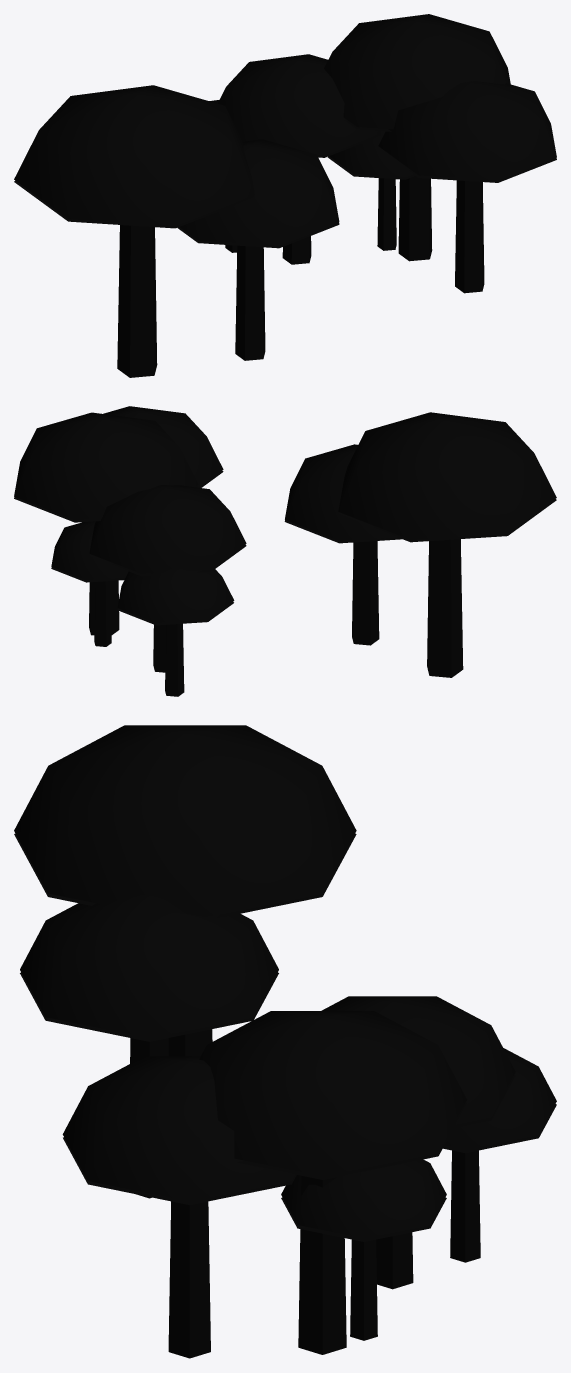
The model's file is SM_mushrooms_brown.fbx.
3 renders of one model, top to bottom at view 1: azimuth 30°, elevation 25°; view 2: azimuth 150°, elevation 25°; view 3: azimuth 270°, elevation 25°, orthographic. The views are drawn at different scales.
Visible parts, largest first — view 1: mushrooms_brown; view 2: mushrooms_brown; view 3: mushrooms_brown.
Part boxes in pixels (bbox=[...]): mushrooms_brown: bbox=[14, 14, 556, 377]; mushrooms_brown: bbox=[14, 406, 556, 696]; mushrooms_brown: bbox=[14, 725, 556, 1358].
Bounding box in the file's own units: 0.4335 × 0.221 × 0.2812.
